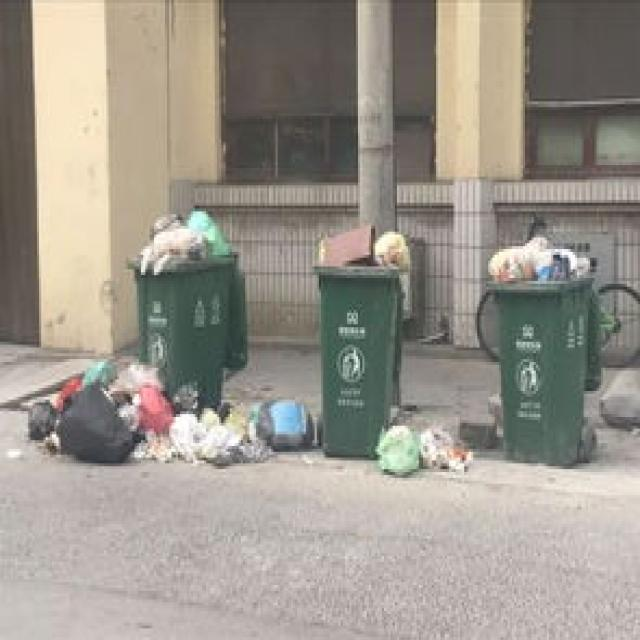garbage: (26, 354, 310, 466), (373, 417, 473, 475)
overflow: (484, 232, 603, 463), (126, 206, 249, 414), (312, 220, 408, 455)
